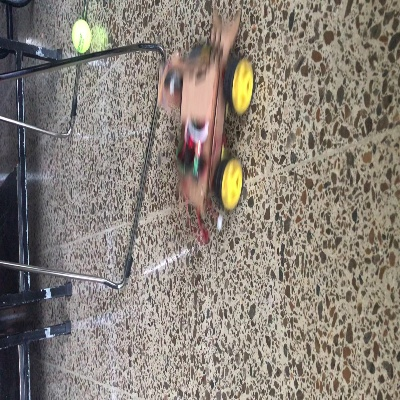Ball: (72, 19, 89, 53)
Robot: (159, 13, 255, 215)
